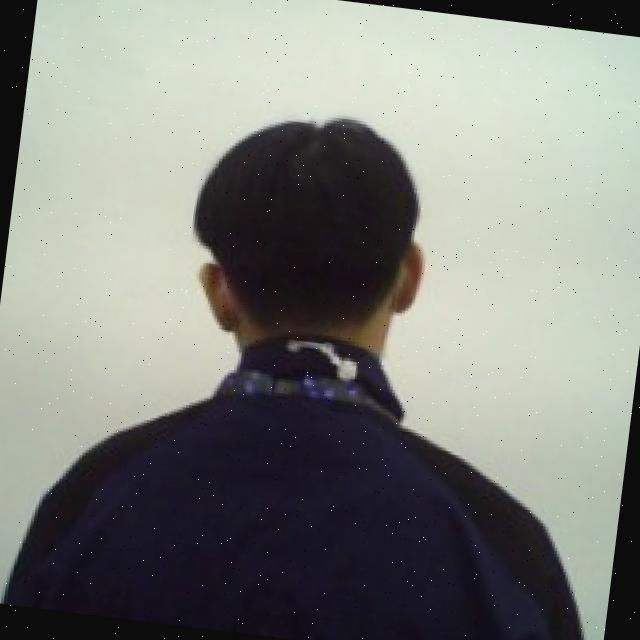no_gloves: (172, 88, 442, 366)
